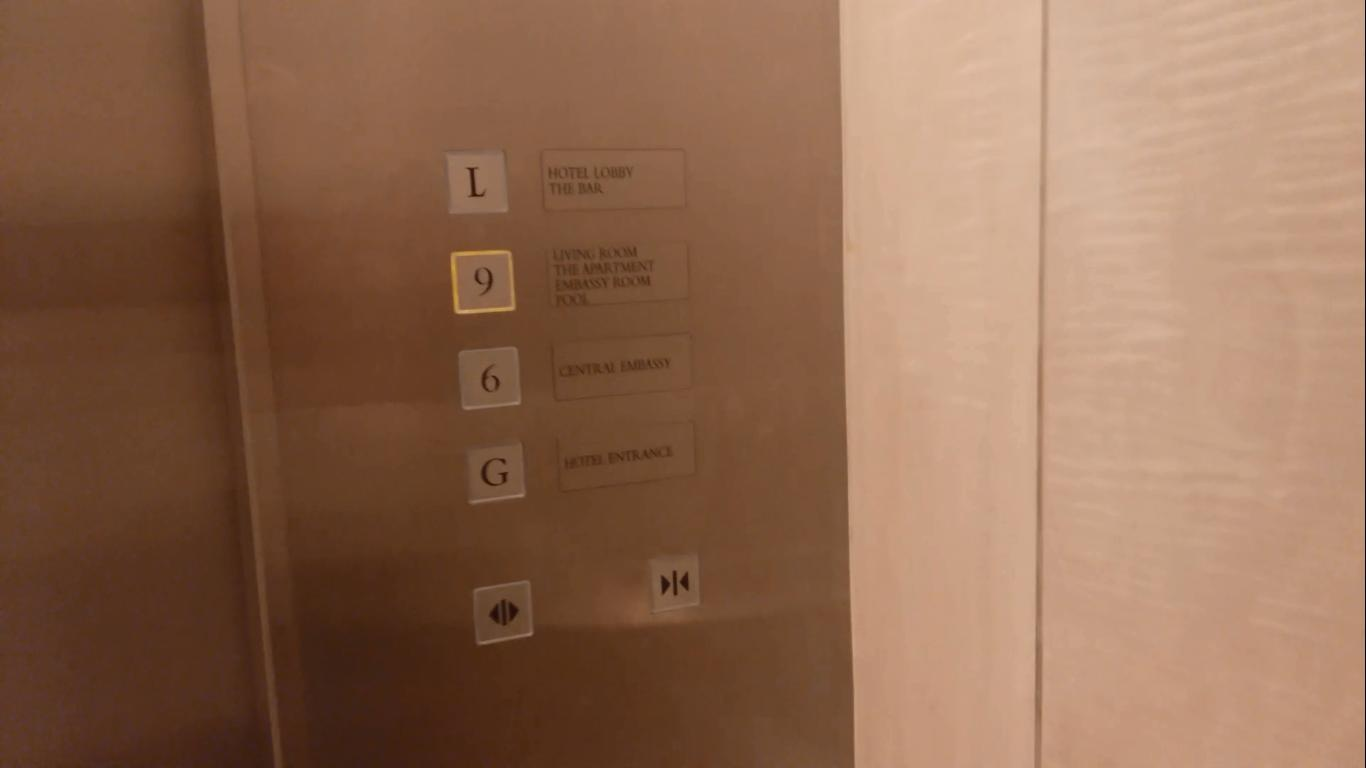6: (453, 343, 526, 415)
9: (446, 247, 519, 316)
G: (462, 438, 528, 507)
L: (443, 145, 510, 217)
close: (648, 552, 704, 612)
open: (470, 577, 535, 651)
